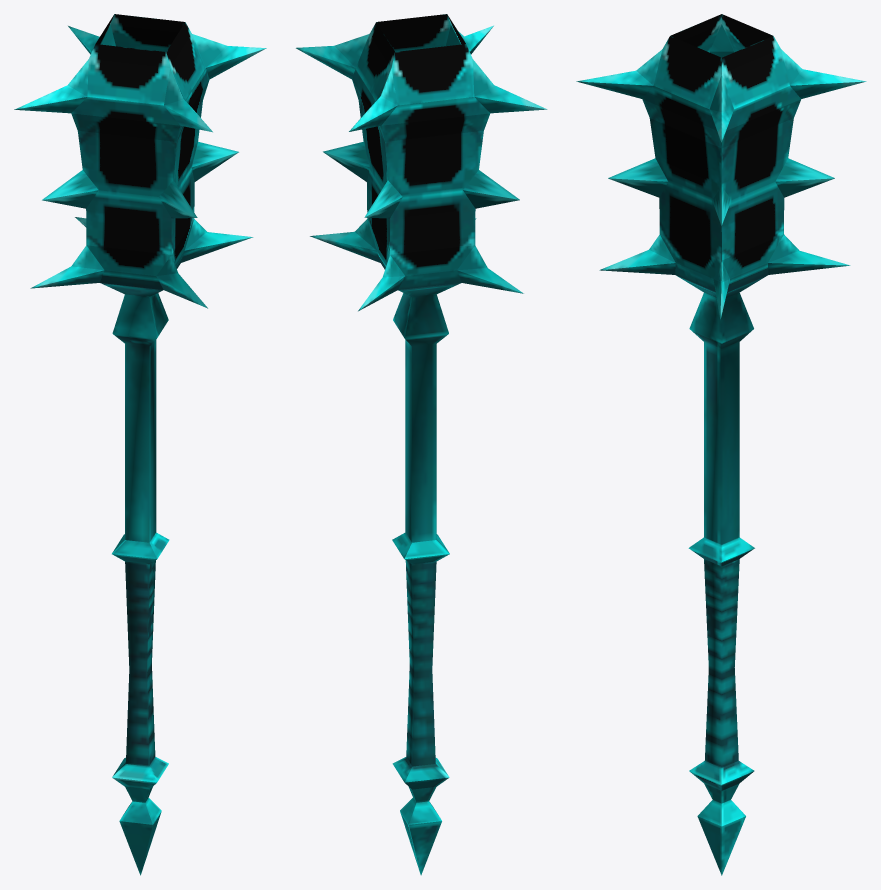
The model's file is wraith_mace.fbx.
The picture shows the model from 3 angles, left to right: view 1: azimuth 30°, elevation 25°; view 2: azimuth 150°, elevation 25°; view 3: azimuth 270°, elevation 25°; orthographic projection.
Visible parts, largest first — view 1: Wraith_greathammer_Mat; view 2: Wraith_greathammer_Mat; view 3: Wraith_greathammer_Mat.
Part boxes in pixels (x1,y1,x2,y2): Wraith_greathammer_Mat: [14, 14, 266, 875]; Wraith_greathammer_Mat: [296, 14, 547, 875]; Wraith_greathammer_Mat: [576, 14, 866, 875].
Size of the model in its own units: 0.7559 by 2.41 by 0.7559.
